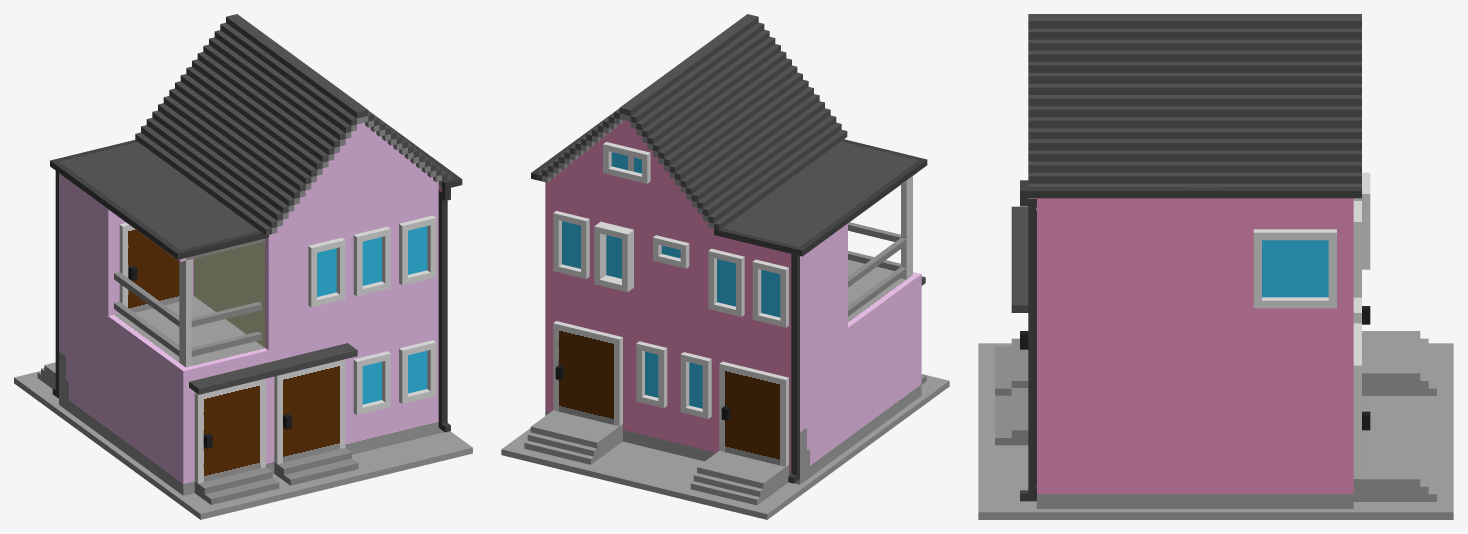
The model's file is obj_house8b.dae.
The picture shows the model from 3 angles, left to right: view 1: azimuth 30°, elevation 25°; view 2: azimuth 150°, elevation 25°; view 3: azimuth 270°, elevation 25°; orthographic projection. The views are drawn at different scales.
Parts seen in each view (by area): view 1: obj_house8b; view 2: obj_house8b; view 3: obj_house8b.
Part boxes in pixels (<box>): obj_house8b: <box>14,14,472,519</box>; obj_house8b: <box>501,14,949,519</box>; obj_house8b: <box>978,14,1453,519</box>.
Size of the model in its own units: 4.9 by 5.7 by 5.9.
1 material, 1 textured.
